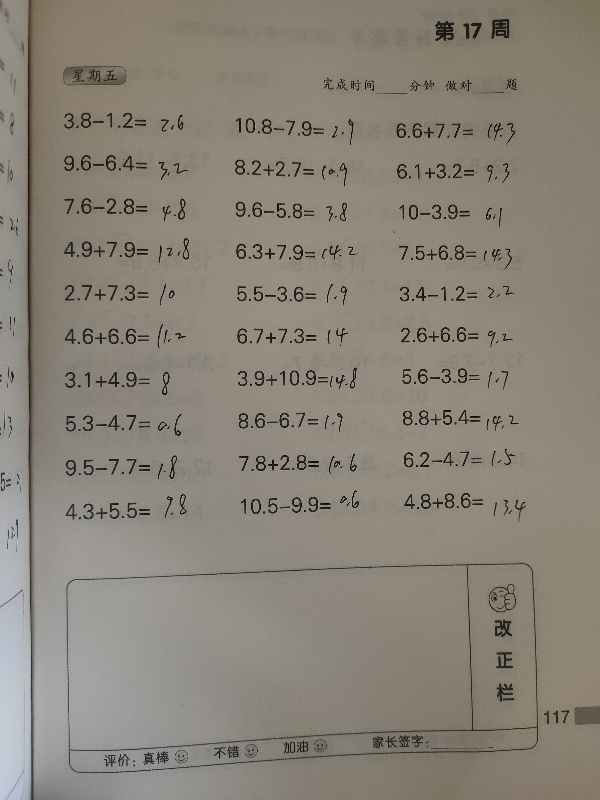equation: (56, 489, 197, 532), (219, 445, 368, 483), (229, 108, 363, 148), (231, 485, 372, 523), (391, 276, 529, 313), (383, 113, 533, 147), (59, 408, 195, 444), (61, 453, 196, 489), (225, 153, 361, 188), (387, 403, 527, 435), (228, 319, 361, 352), (61, 276, 193, 309), (57, 323, 197, 353), (233, 281, 364, 313), (397, 443, 528, 475), (56, 235, 197, 264), (401, 488, 529, 519), (228, 200, 356, 231), (392, 193, 515, 225), (391, 156, 517, 187), (59, 152, 191, 180), (231, 239, 372, 265), (235, 364, 361, 393), (62, 368, 174, 399), (395, 241, 520, 268), (60, 195, 189, 221), (60, 108, 187, 134), (397, 322, 516, 349), (398, 363, 512, 390), (234, 408, 346, 434)
